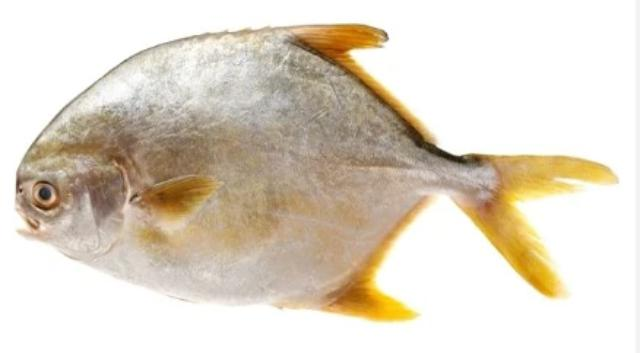Mulut: (4, 194, 61, 262)
Sirip Anal: (354, 188, 442, 272)
Sirip Dada: (110, 161, 238, 255)
Sirip Ekor: (452, 132, 630, 312)
Sirip Perut: (282, 274, 438, 336)
Sirip Punggung: (281, 11, 445, 152)
